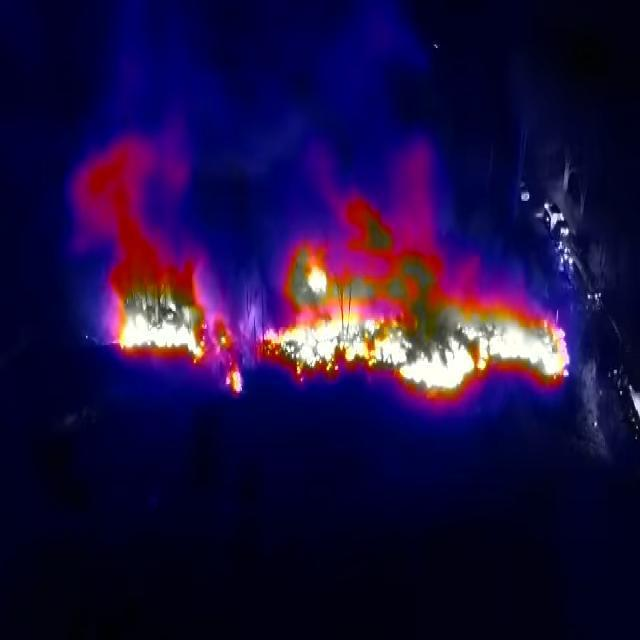fire: (253, 205, 572, 410), (106, 249, 244, 399)
